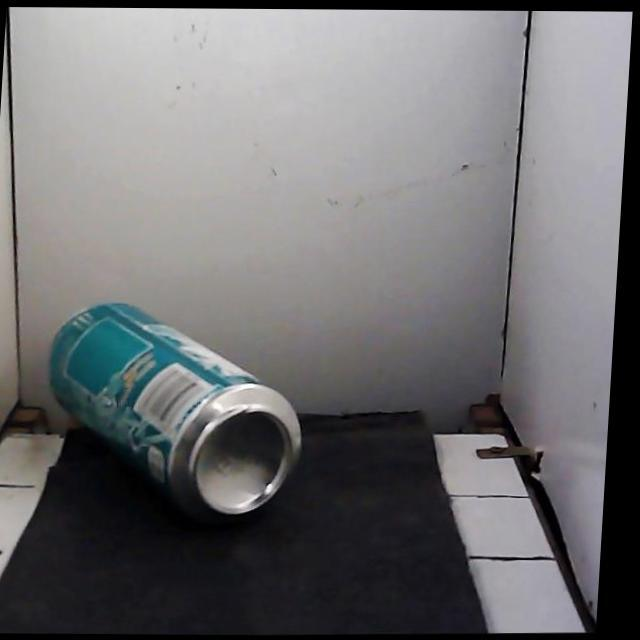metal: (50, 304, 300, 519)
